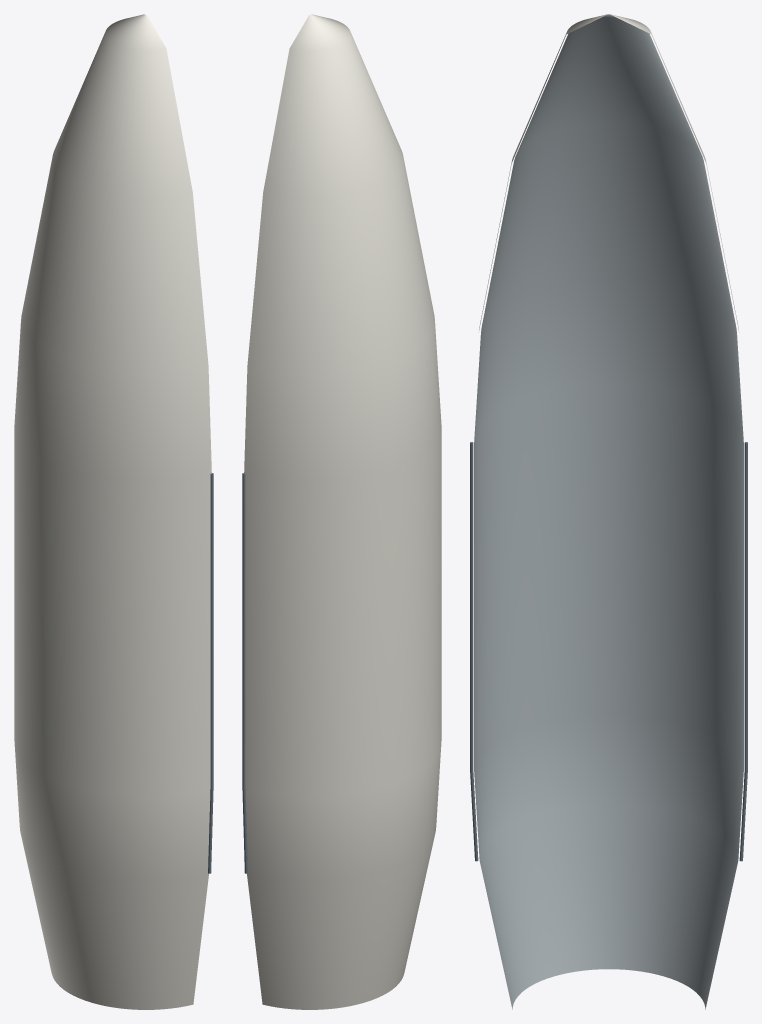
Rendered from titan_centaur_fairing_left.glb.
3 renders of one model, left to right at view 1: azimuth 30°, elevation 25°; view 2: azimuth 150°, elevation 25°; view 3: azimuth 270°, elevation 25°, orthographic. The views are drawn at different scales.
Visible parts, largest first — view 1: titan_centaur_fairing_lmesh_Warm_white_enamel, titan_centaur_fairing_lmesh_Machined_steel; view 2: titan_centaur_fairing_lmesh_Warm_white_enamel, titan_centaur_fairing_lmesh_Machined_steel; view 3: titan_centaur_fairing_lmesh_Satin_aluminum, titan_centaur_fairing_lmesh_Machined_steel, titan_centaur_fairing_lmesh_Warm_white_enamel.
Part boxes in pixels (left/top/right/bottom): titan_centaur_fairing_lmesh_Warm_white_enamel: left=14, top=14, right=211, bottom=1009; titan_centaur_fairing_lmesh_Machined_steel: left=208, top=473, right=213, bottom=873; titan_centaur_fairing_lmesh_Warm_white_enamel: left=244, top=14, right=441, bottom=1009; titan_centaur_fairing_lmesh_Machined_steel: left=242, top=473, right=247, bottom=873; titan_centaur_fairing_lmesh_Satin_aluminum: left=474, top=14, right=743, bottom=1009; titan_centaur_fairing_lmesh_Machined_steel: left=470, top=442, right=747, bottom=861; titan_centaur_fairing_lmesh_Warm_white_enamel: left=478, top=14, right=739, bottom=332.
Size of the model in its own units: 2.16 by 17.1 by 4.33.
